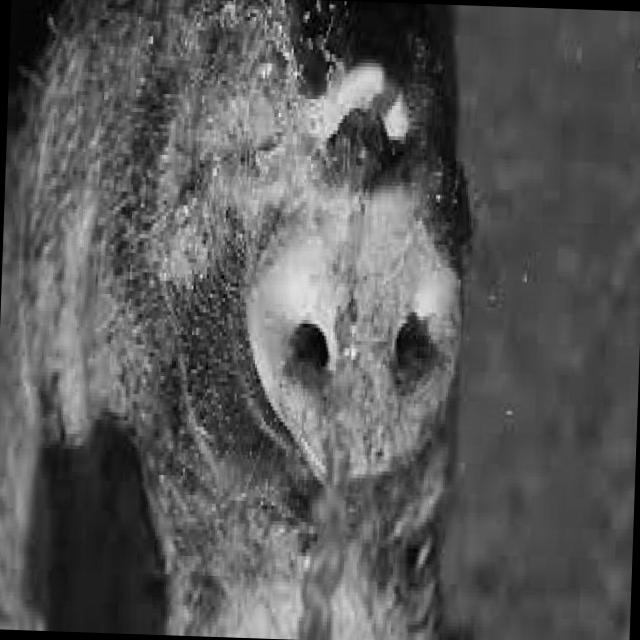pig: (0, 0, 461, 640)
